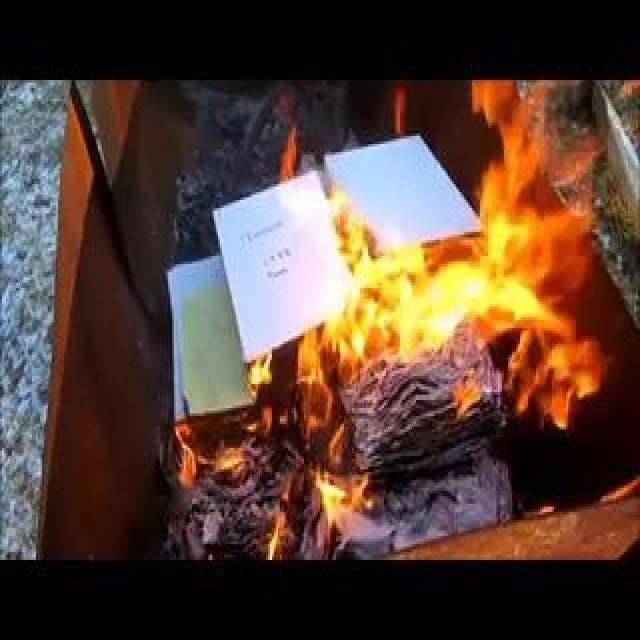Fire: (330, 215, 584, 358), (473, 87, 583, 218), (506, 360, 610, 430), (252, 342, 330, 400), (313, 478, 381, 541), (170, 426, 250, 474)
